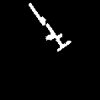double_crochet: (29, 3, 70, 50)
